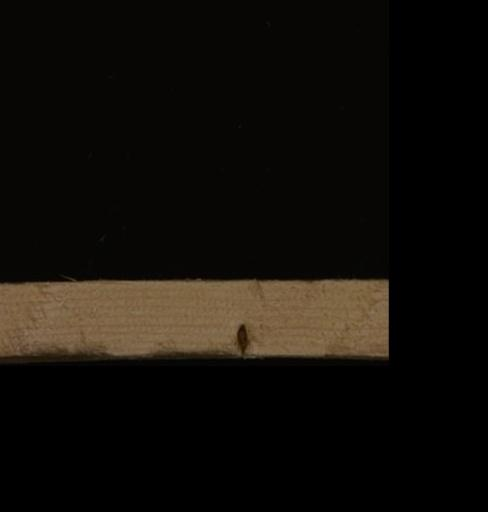dry_knot: (234, 319, 247, 353)
